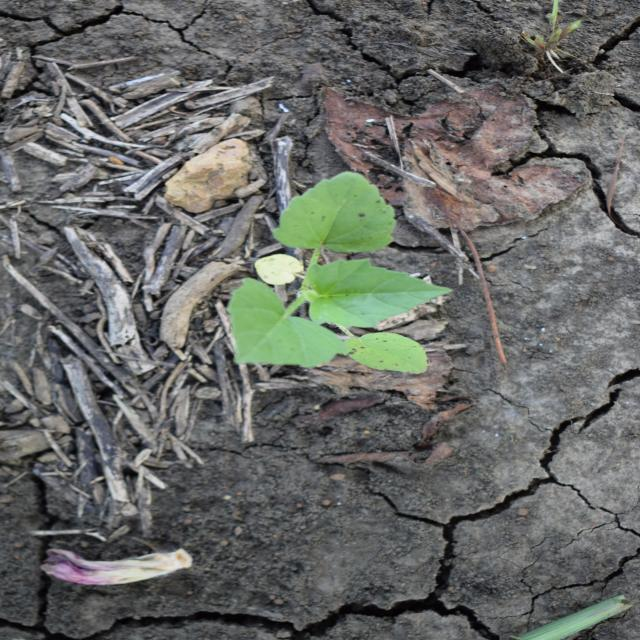CutleafGroundcherry: (226, 168, 456, 376)
